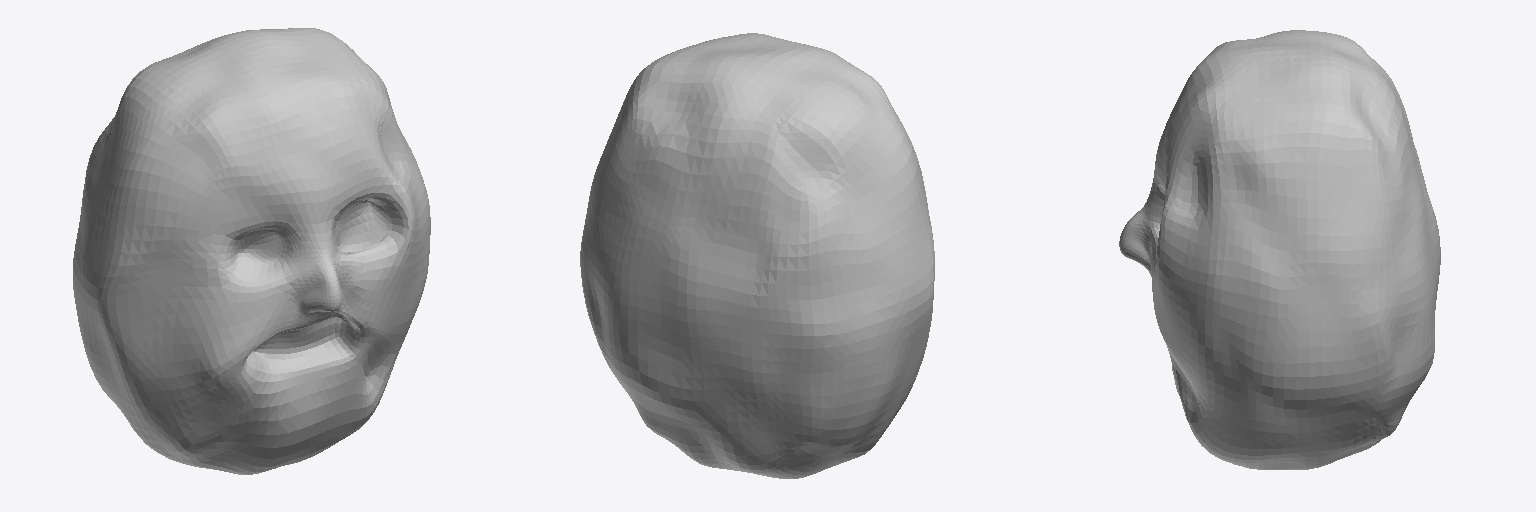
Rendered from galva_tamsi.obj.
3 views of the same model, side by side, from view 1: azimuth 30°, elevation 25°; view 2: azimuth 150°, elevation 25°; view 3: azimuth 270°, elevation 25° (orthographic).
Parts seen in each view (by area): view 1: galva_tamsi.obj; view 2: galva_tamsi.obj; view 3: galva_tamsi.obj.
Boxes of the visible parts, x1=… form: galva_tamsi.obj: x1=73, y1=28, x2=430, y2=474; galva_tamsi.obj: x1=580, y1=33, x2=934, y2=478; galva_tamsi.obj: x1=1119, y1=30, x2=1440, y2=469.
Size of the model in its own units: 0.1942 by 0.2353 by 0.1686.